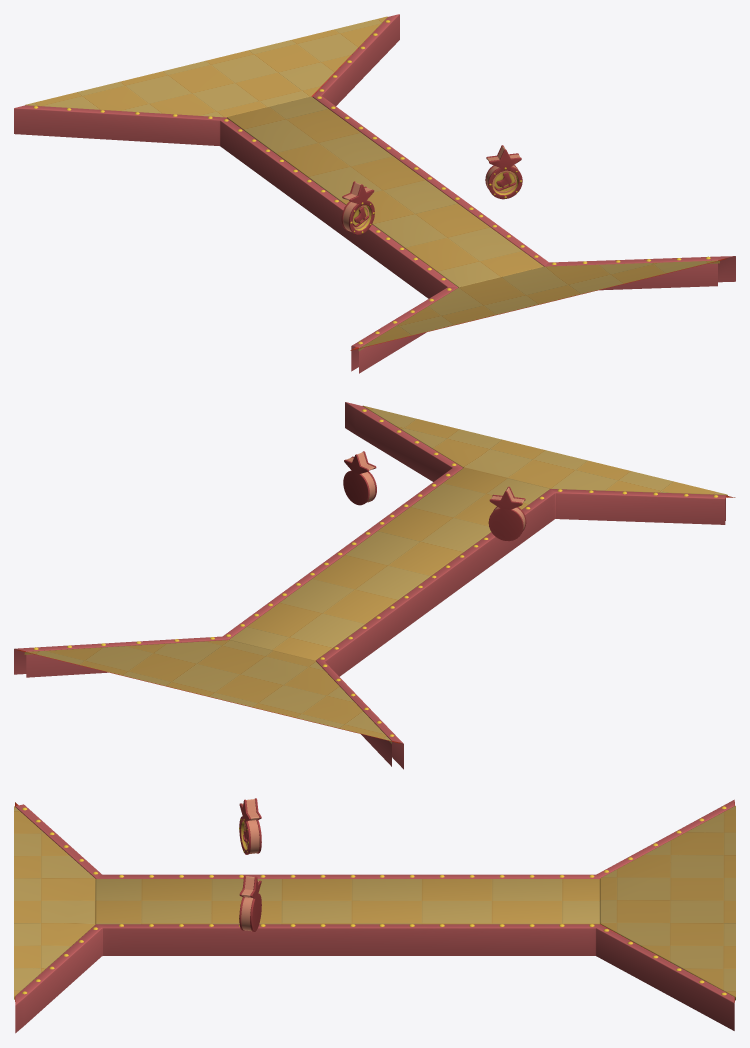
Rendered from SM_RunFloor01.fbx.
3 views of the same model, one above another, from view 1: azimuth 30°, elevation 25°; view 2: azimuth 150°, elevation 25°; view 3: azimuth 270°, elevation 25° (orthographic). The views are drawn at different scales.
Visible parts, largest first — view 1: SM_RunFloor01; view 2: SM_RunFloor01; view 3: SM_RunFloor01.
Part boxes in pixels (box(x1,y1,x2,y2)): SM_RunFloor01: box(14, 14, 735, 373); SM_RunFloor01: box(14, 402, 735, 769); SM_RunFloor01: box(14, 798, 735, 1033).
Size of the model in its own units: 5865 by 1221 by 8670.
